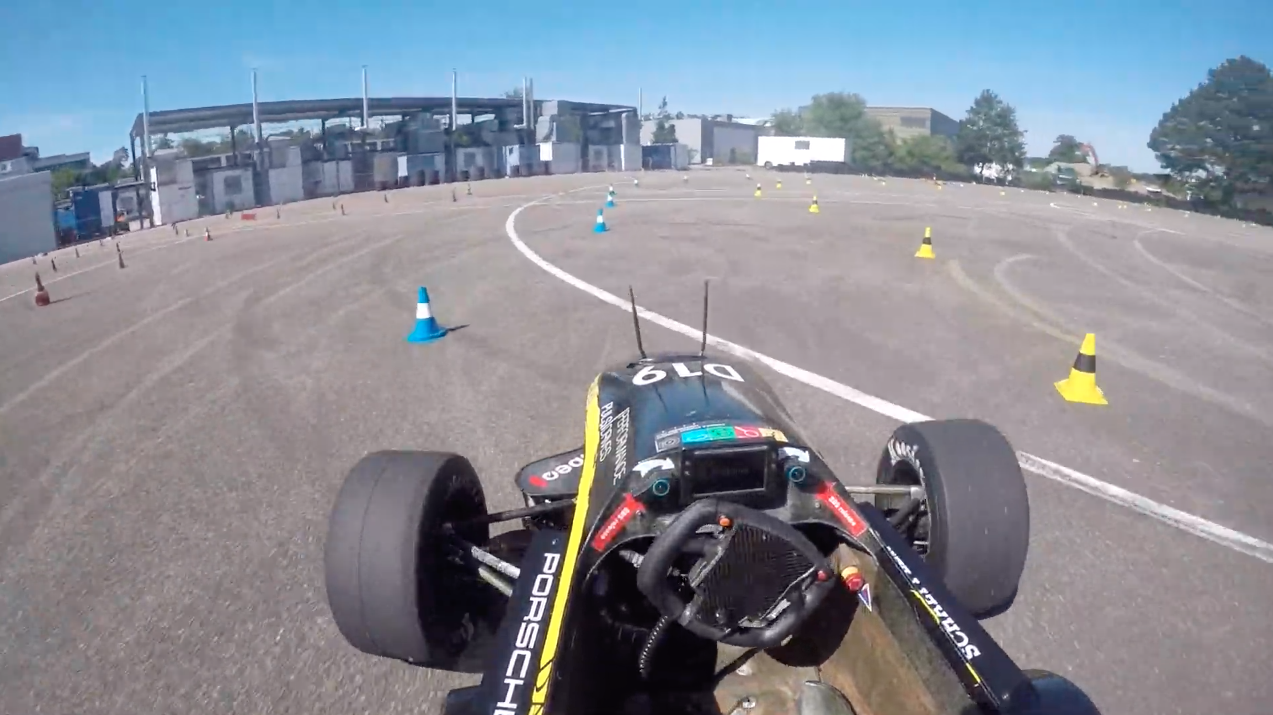lcone: (400, 285, 449, 348), (591, 207, 611, 235)
rcone: (1050, 329, 1117, 409), (912, 224, 942, 262)
